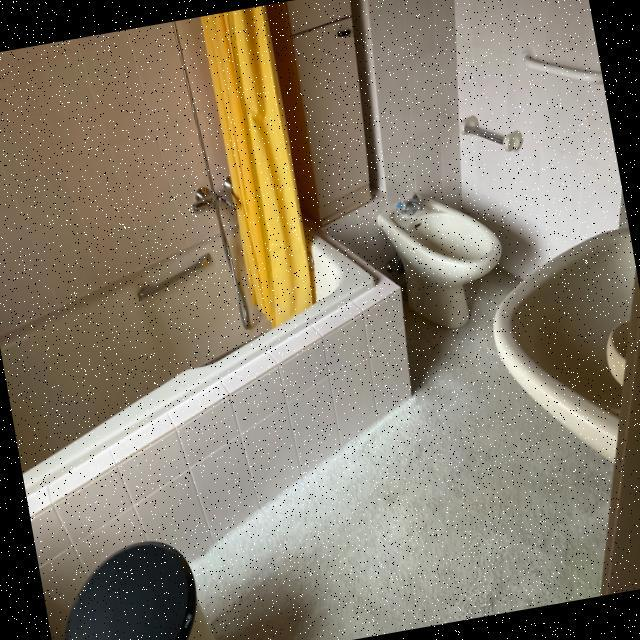bath: (0, 0, 436, 567)
toilet: (372, 175, 516, 340)
wastafel: (478, 224, 640, 470)
